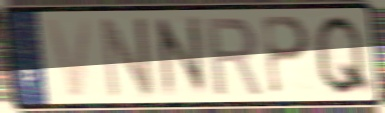N: (151, 12, 212, 101), (98, 13, 157, 101)
P: (260, 14, 312, 98)
Q: (311, 11, 376, 98)
R: (203, 15, 265, 98)
V: (43, 15, 95, 101)
